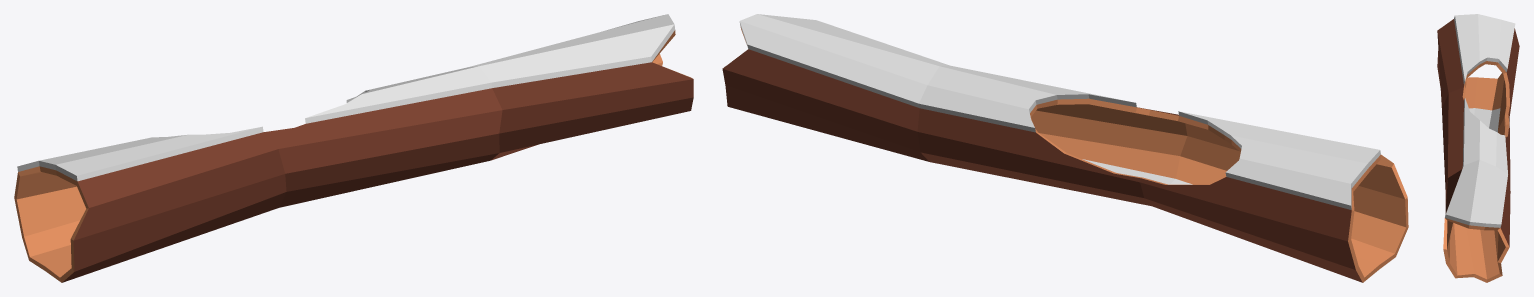
The model's file is pine_trunk_type_11_extra_LOD0.fbx.
The picture shows the model from 3 angles, left to right: view 1: azimuth 30°, elevation 25°; view 2: azimuth 150°, elevation 25°; view 3: azimuth 270°, elevation 25°; orthographic projection. The views are drawn at different scales.
Parts seen in each view (by area): view 1: pt_type_11.001; view 2: pt_type_11.001; view 3: pt_type_11.001.
Boxes of the visible parts, x1=… form: pt_type_11.001: x1=14, y1=14, x2=693, y2=282; pt_type_11.001: x1=722, y1=14, x2=1408, y2=282; pt_type_11.001: x1=1437, y1=14, x2=1519, y2=282.
Bounding box in the file's own units: 794 × 125 × 131.
